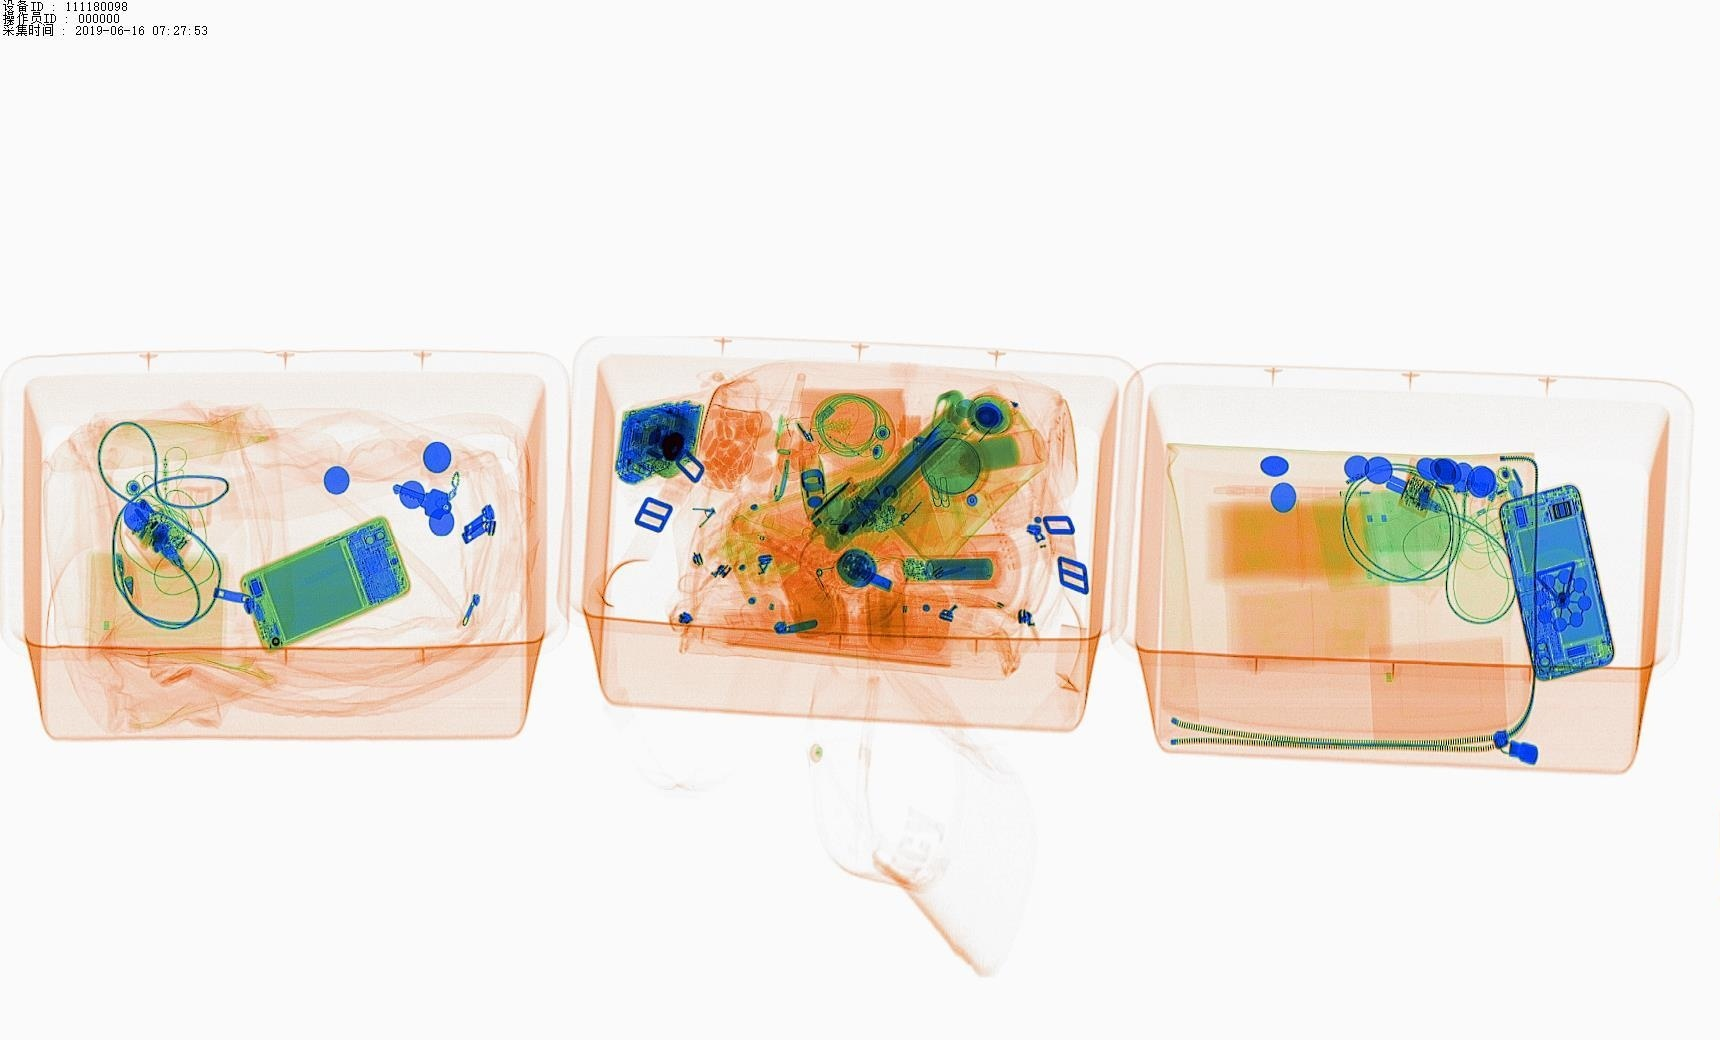NonmetallicFire: (1403, 452, 1494, 521)
